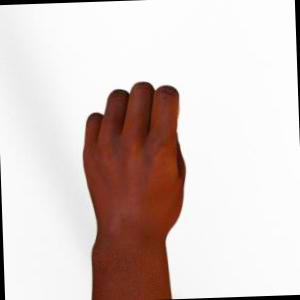rock: (84, 82, 185, 300)
